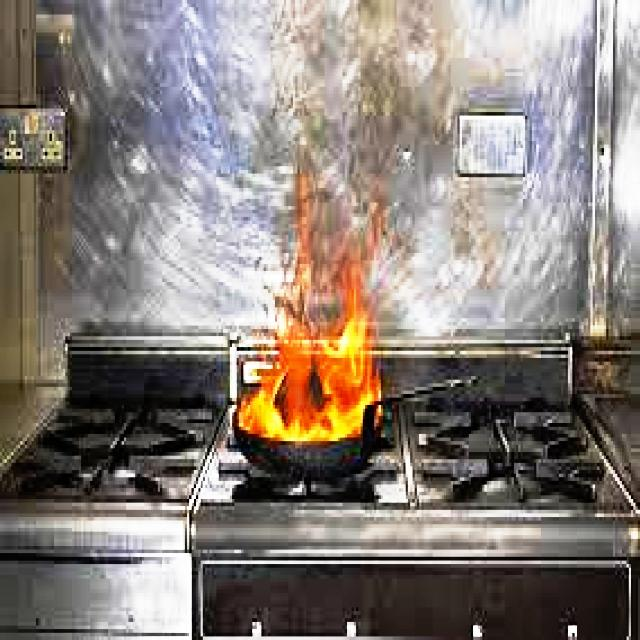api: (227, 196, 387, 453)
